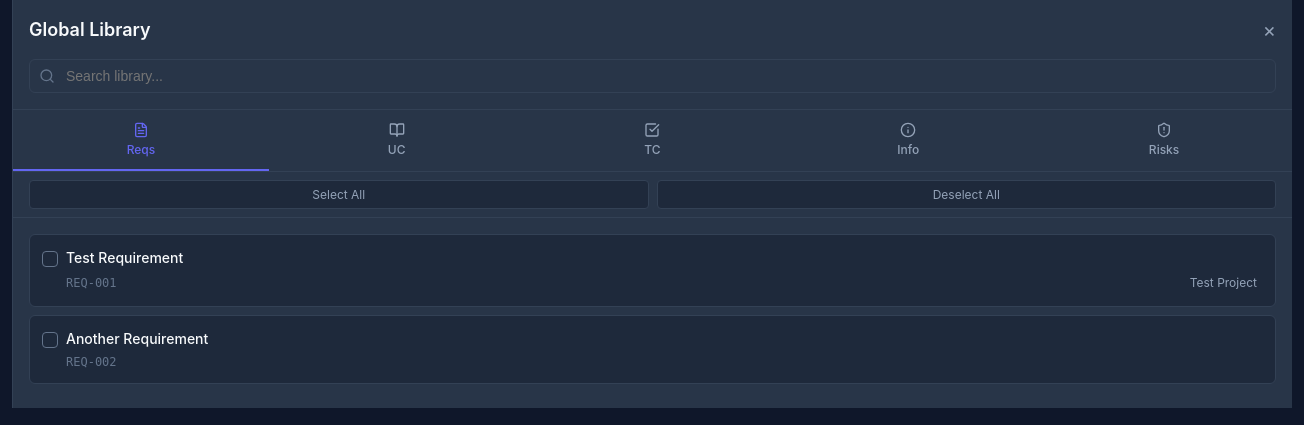
Test case: GlobalLibraryPanel › should filter items when searching
Type "REQ-002" into the field with placeholder "Search library..." at x=652, y=76, box [29,59,1276,93]
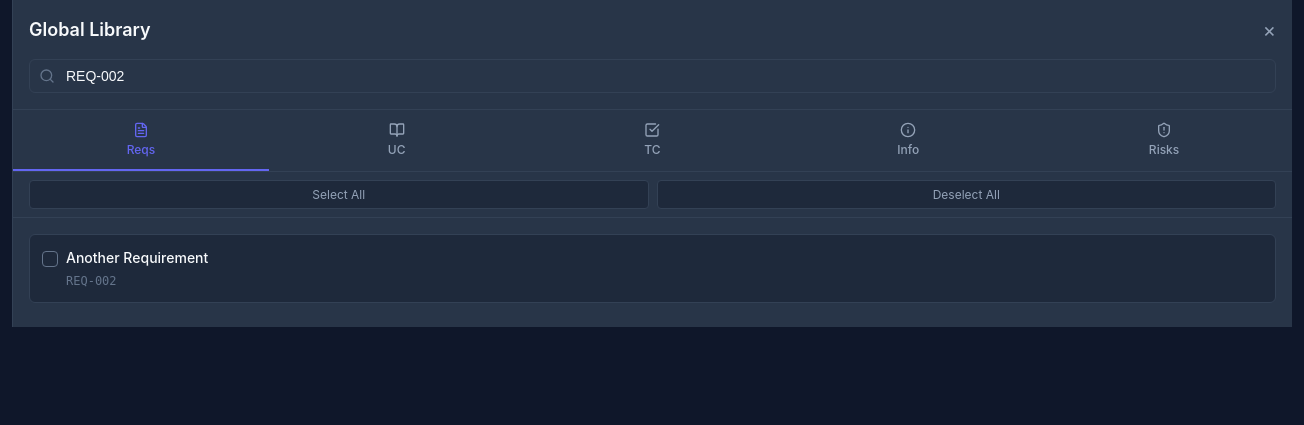
Expected: the text "REQ-002" is shown, [66,272,117,290]
Expected: the text "REQ-001" is gone
